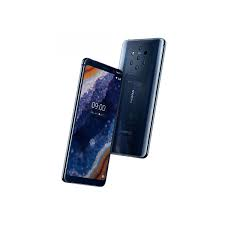nokia: (61, 55, 123, 190), (106, 35, 166, 159)
